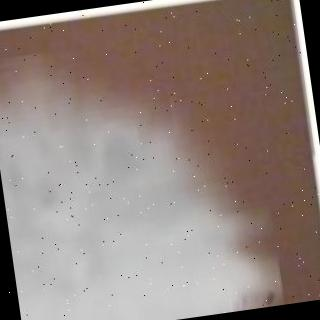smoke: (0, 57, 300, 320)
